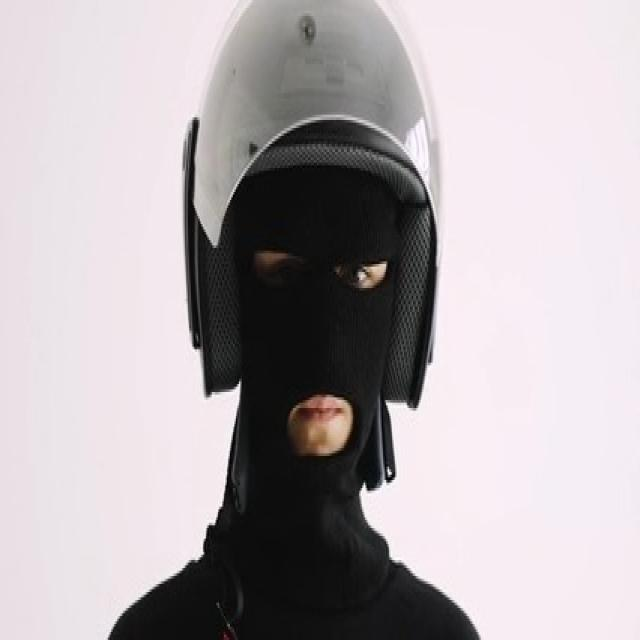Helmet_Wearer: (142, 0, 492, 640)
Person: (110, 0, 483, 640)
